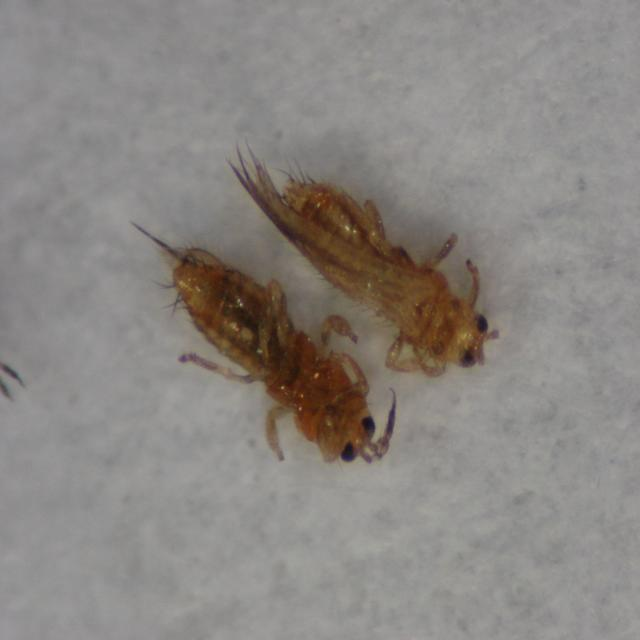Thrip-Adult-: (120, 209, 398, 479), (249, 138, 514, 388)
